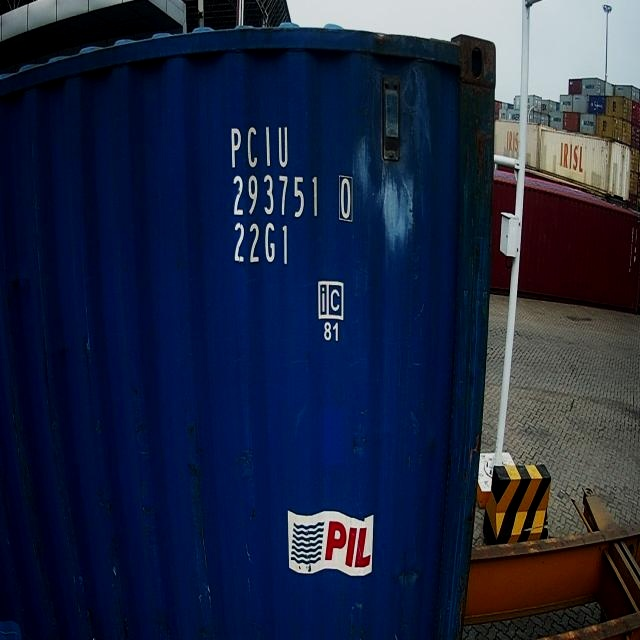Dent: (349, 435, 379, 467), (427, 428, 445, 475), (398, 557, 421, 593)
Rusty: (13, 381, 223, 614), (455, 28, 501, 181)
